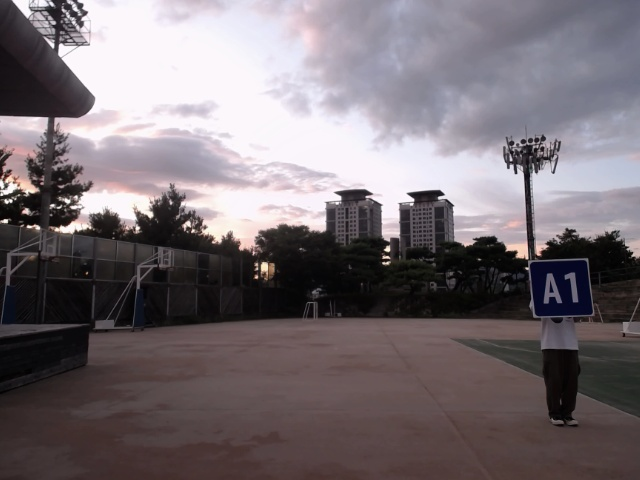delivery_a1: (529, 259, 593, 317)
